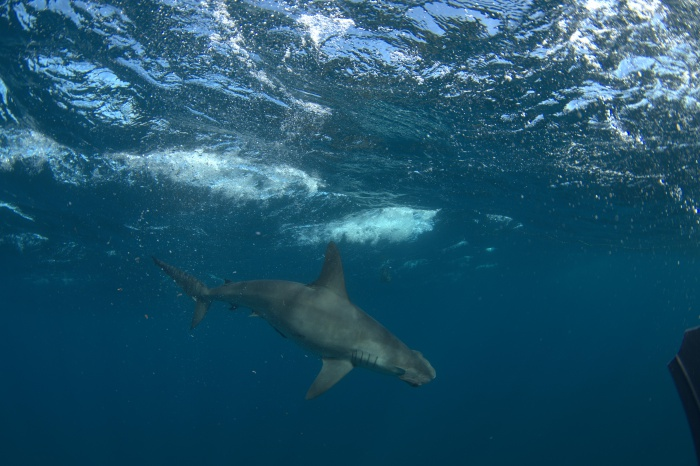Hammer: (135, 126, 700, 426), (156, 229, 445, 400)
